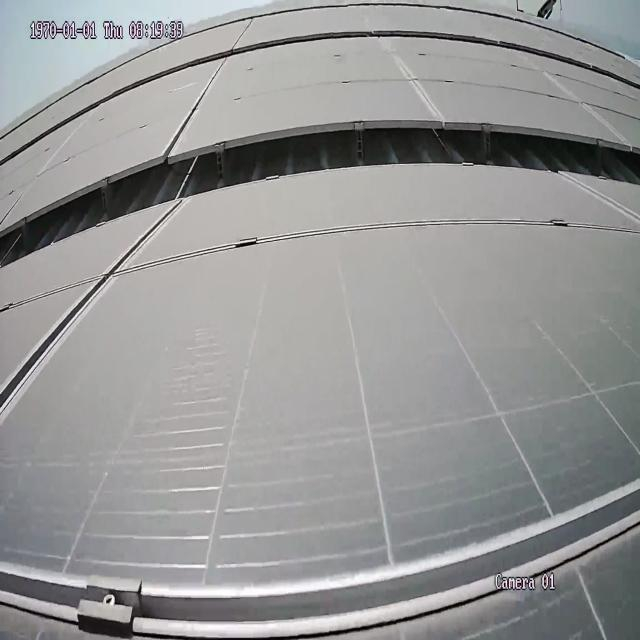interior panel: (0, 208, 639, 426), (0, 472, 637, 640), (165, 62, 232, 143), (381, 47, 445, 114), (556, 176, 640, 216)
outher panel: (0, 121, 639, 272)
